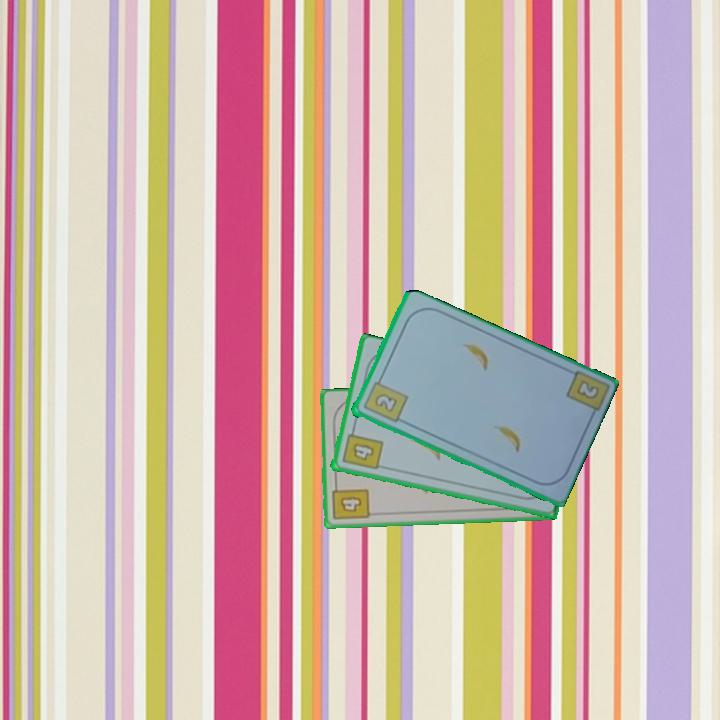2b: (359, 373, 410, 426), (573, 377, 602, 402)
4b: (338, 424, 385, 473), (329, 479, 372, 523)
